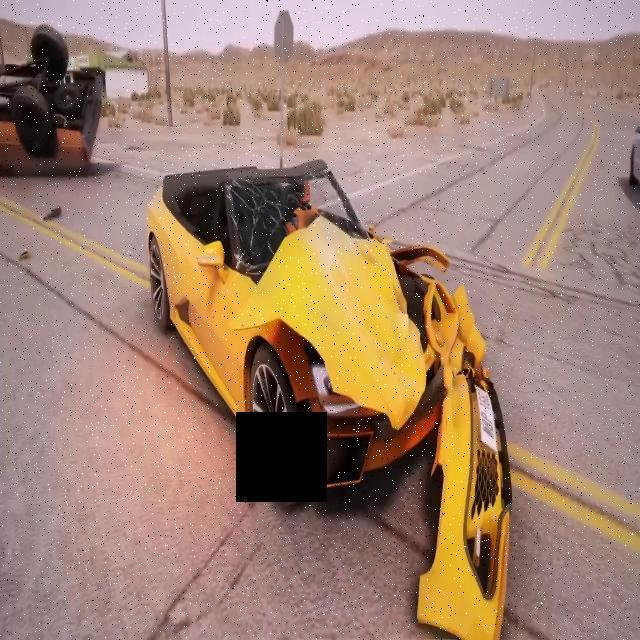accident: (144, 159, 514, 518), (2, 25, 113, 185)
